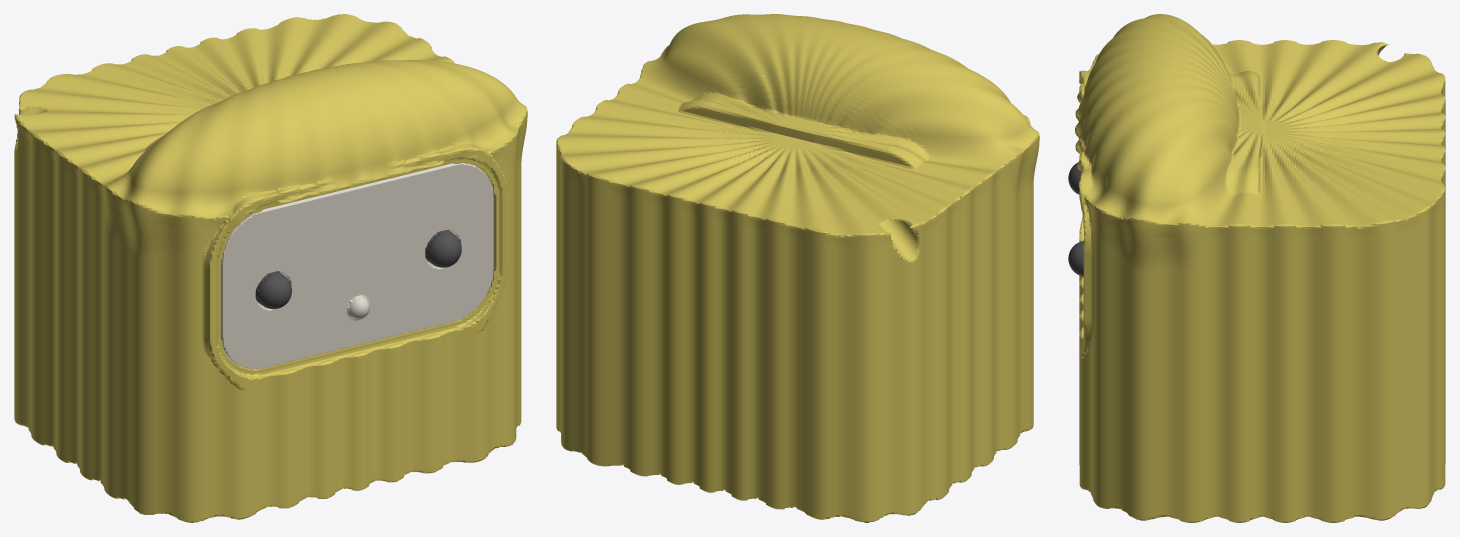
File: bloki_domo.glb
3 views of the same model, side by side, from view 1: azimuth 30°, elevation 25°; view 2: azimuth 150°, elevation 25°; view 3: azimuth 270°, elevation 25° (orthographic). The views are drawn at different scales.
Visible parts, largest first — view 1: world; view 2: world; view 3: world.
Part boxes in pixels (x1,y1,x2,y2): world: [14, 14, 527, 522]; world: [556, 14, 1039, 522]; world: [1068, 14, 1445, 522].
Size of the model in its own units: 37.51 by 34.5 by 31.71.
